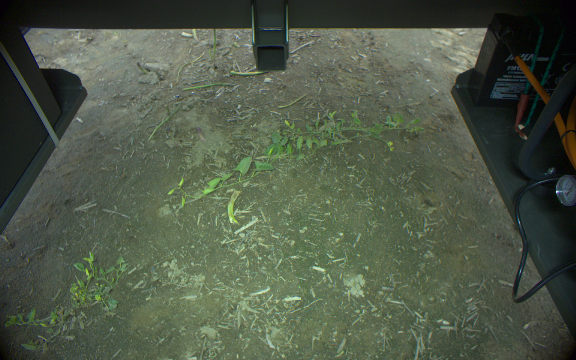aspa: (150, 100, 184, 141), (182, 80, 236, 91), (227, 189, 242, 226), (277, 92, 308, 109), (230, 68, 269, 77), (210, 28, 218, 64), (136, 59, 148, 74), (190, 29, 198, 41)
